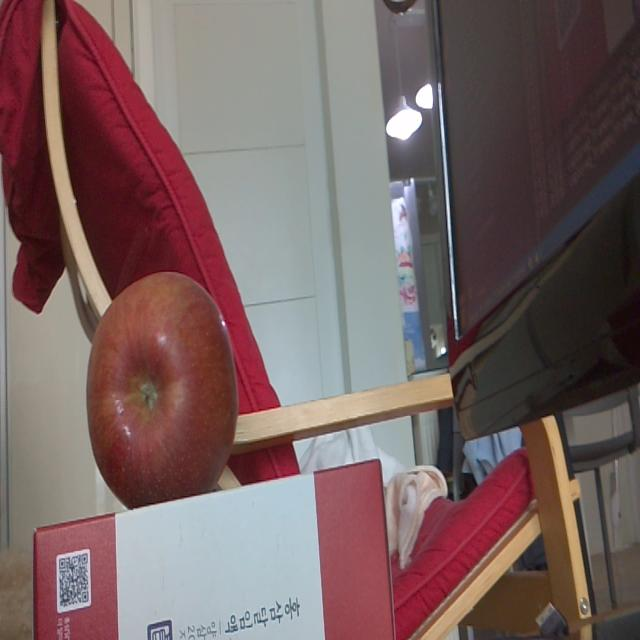apple: (86, 269, 240, 511)
